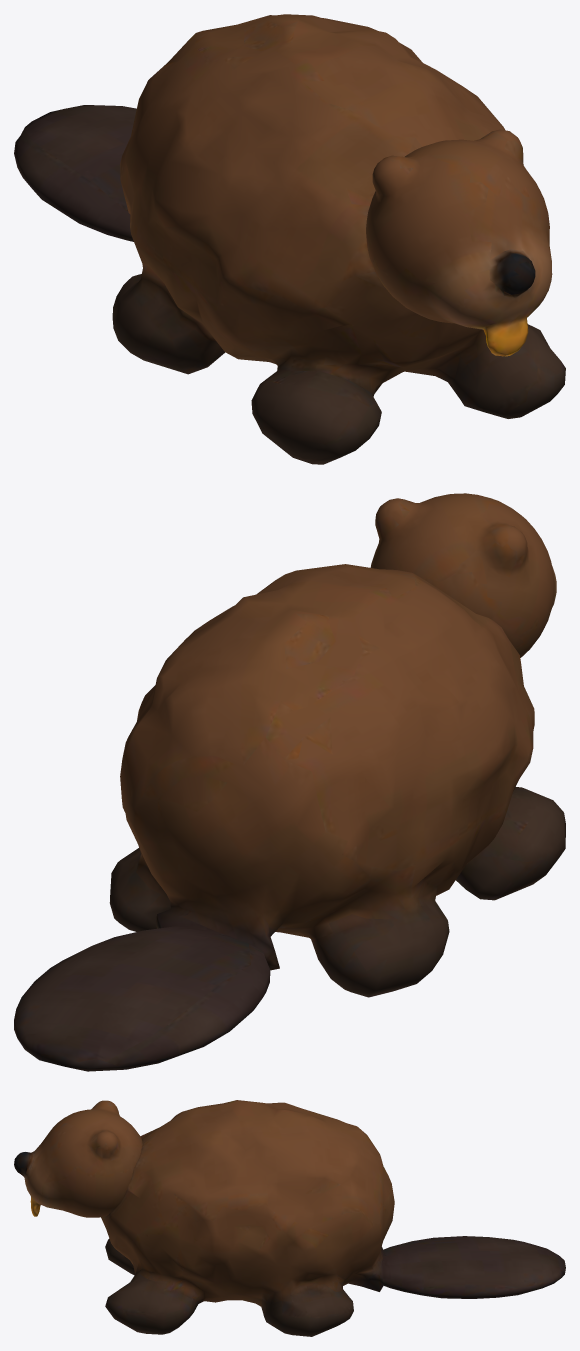
Rendered from animal_beaver.glb.
The picture shows the model from 3 angles, top to bottom: view 1: azimuth 30°, elevation 25°; view 2: azimuth 150°, elevation 25°; view 3: azimuth 270°, elevation 25°; orthographic projection. The views are drawn at different scales.
Visible parts, largest first — view 1: animal_beaver, head; view 2: animal_beaver, head; view 3: animal_beaver, head.
Boxes of the visible parts, x1,y1,x2,y2 form: animal_beaver: (14, 14, 565, 464); head: (366, 129, 552, 356); animal_beaver: (14, 564, 565, 1071); head: (370, 493, 556, 657); animal_beaver: (101, 1100, 565, 1336); head: (14, 1100, 142, 1217).
Bounding box in the file's own units: 0.1528 × 0.1488 × 0.3846.
1 material, 1 textured.
